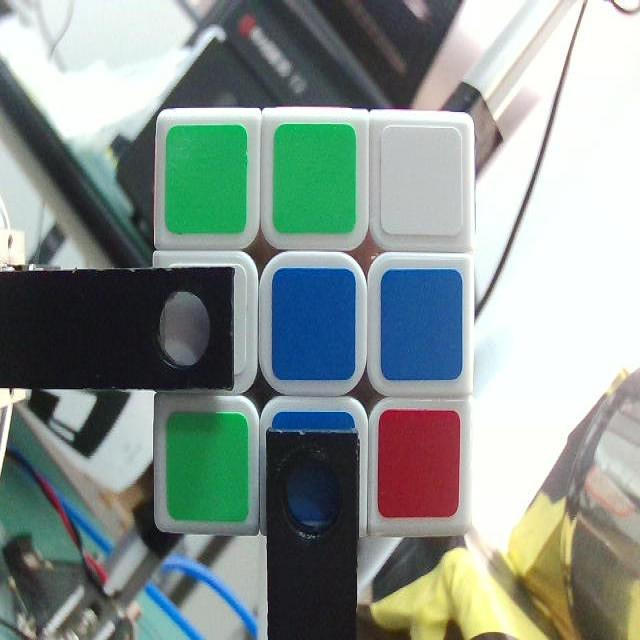b: (381, 274, 464, 377), (277, 270, 356, 378), (274, 417, 350, 517)
g: (161, 128, 248, 231), (168, 414, 250, 518), (275, 127, 353, 226)
r: (379, 409, 457, 515)
w: (380, 128, 462, 231), (172, 264, 245, 370)
